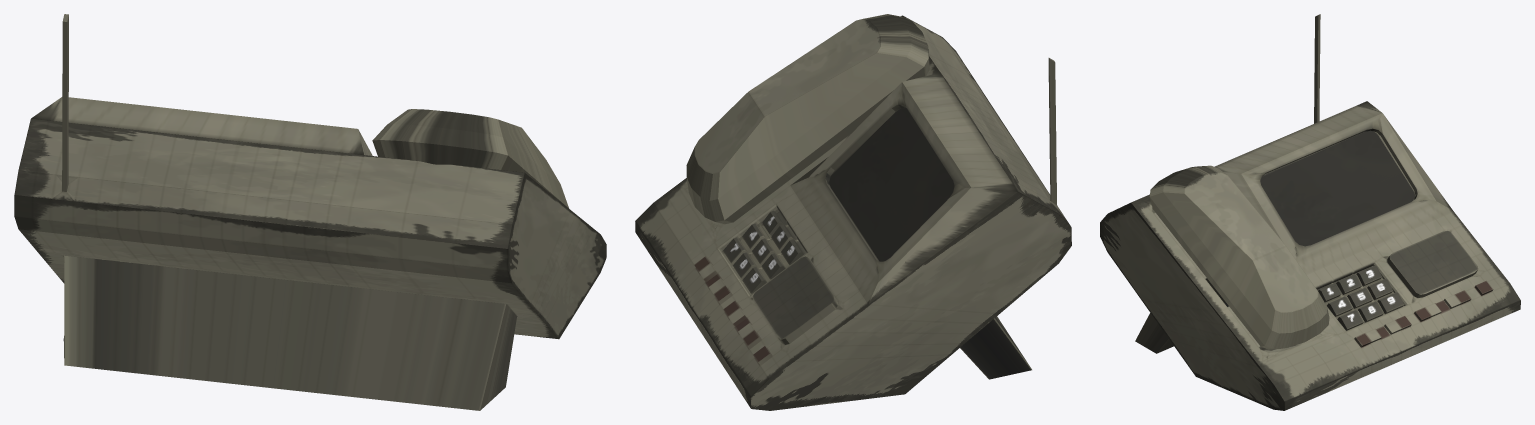
File: phone.gltf
3 views of the same model, side by side, from view 1: azimuth 30°, elevation 25°; view 2: azimuth 150°, elevation 25°; view 3: azimuth 270°, elevation 25° (orthographic). The views are drawn at different scales.
Visible parts, largest first — view 1: telephone, telephone-combine; view 2: telephone, telephone-combine; view 3: telephone, telephone-combine.
Boxes of the visible parts, box(x1,y1,x2,y2) form: telephone: box(14, 14, 606, 410); telephone-combine: box(372, 109, 568, 208); telephone: box(635, 15, 1071, 410); telephone-combine: box(686, 14, 929, 224); telephone: box(1100, 14, 1520, 410); telephone-combine: box(1149, 165, 1329, 349).
Size of the model in its own units: 7.34 by 4.58 by 7.33.
1 material, 1 textured.
